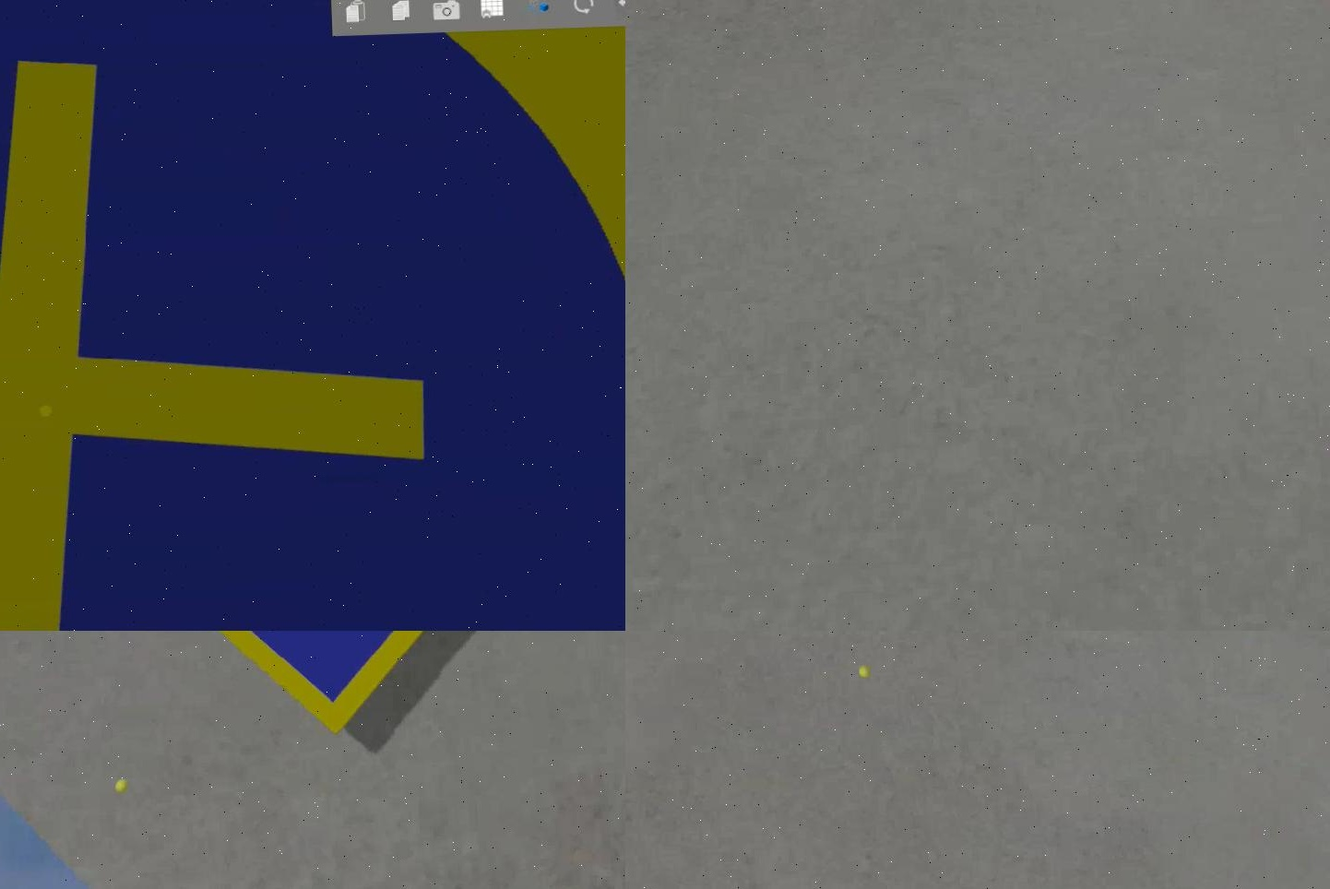large_base: (0, 1, 624, 631)
small_base: (37, 631, 590, 742)
